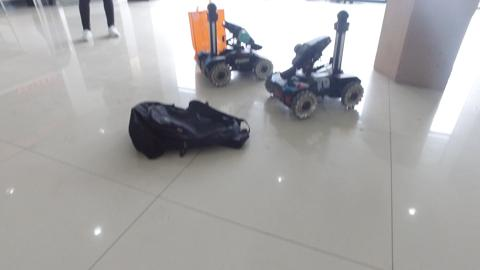bag: (130, 98, 250, 161)
chariot: (265, 13, 365, 122), (196, 2, 277, 85)
